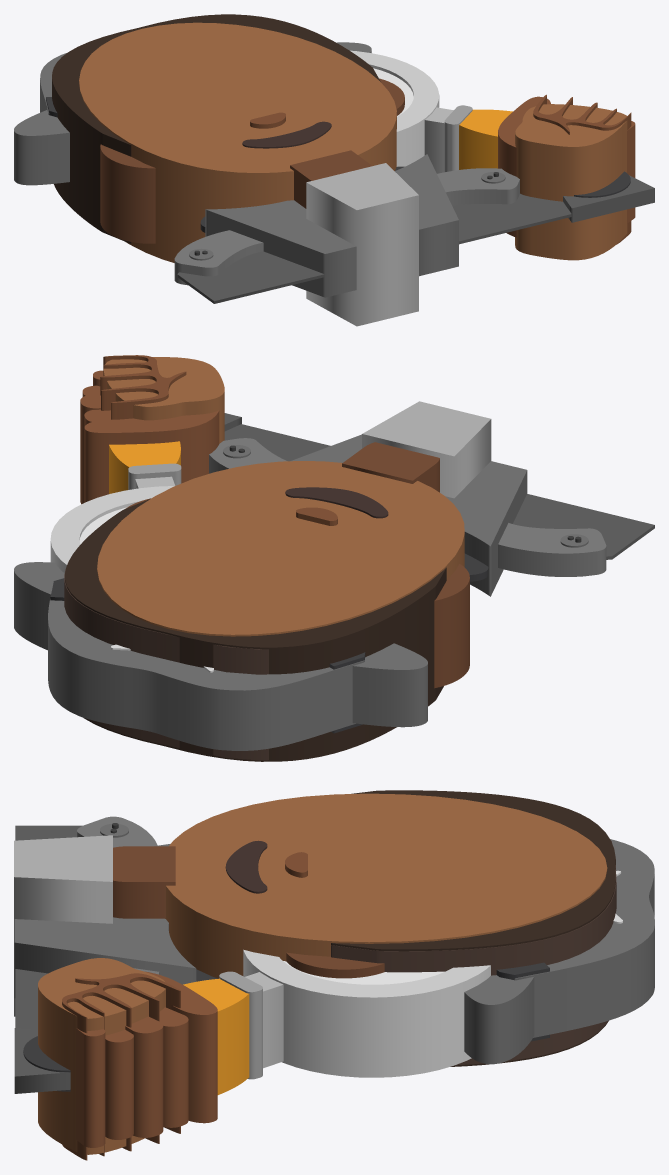
Rendered from emoji_u1f575_1f3fe_200d_2642.glb.
3 views of the same model, one above another, from view 1: azimuth 30°, elevation 25°; view 2: azimuth 150°, elevation 25°; view 3: azimuth 270°, elevation 25° (orthographic). The views are drawn at different scales.
Visible parts, largest first — view 1: emoji_u1f575_1f3fe_200d_2642; view 2: emoji_u1f575_1f3fe_200d_2642; view 3: emoji_u1f575_1f3fe_200d_2642.
Boxes of the visible parts, x1,y1,x2,y2 form: emoji_u1f575_1f3fe_200d_2642: [14, 14, 654, 326]; emoji_u1f575_1f3fe_200d_2642: [14, 355, 654, 761]; emoji_u1f575_1f3fe_200d_2642: [14, 790, 654, 1160].
Size of the model in its own units: 0.0326 by 0.0082 by 0.0333.
